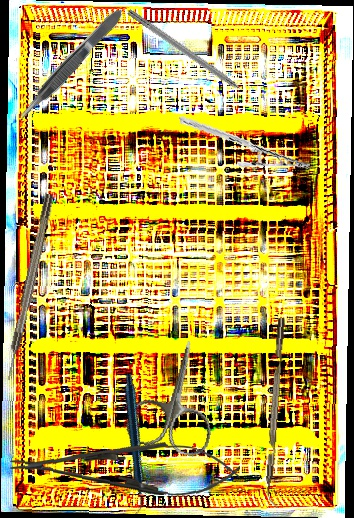Chopper: (261, 317, 295, 509)
Handpiece: (66, 371, 199, 516)
Hook Surgical: (125, 8, 259, 105), (2, 193, 56, 381)
Iris Scissors: (122, 331, 232, 460)
Needle Holder: (9, 437, 241, 498), (179, 97, 311, 189)
Tissue Forceps: (11, 5, 130, 126)
